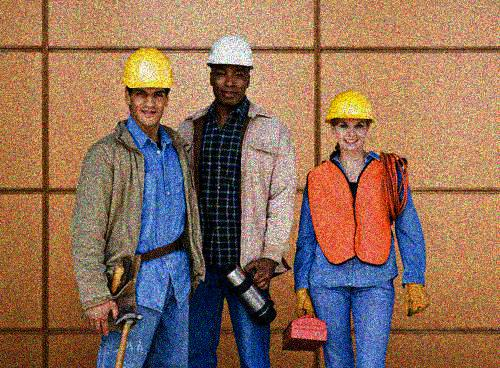helmet: (123, 46, 173, 129), (206, 36, 255, 106), (325, 90, 375, 151)
